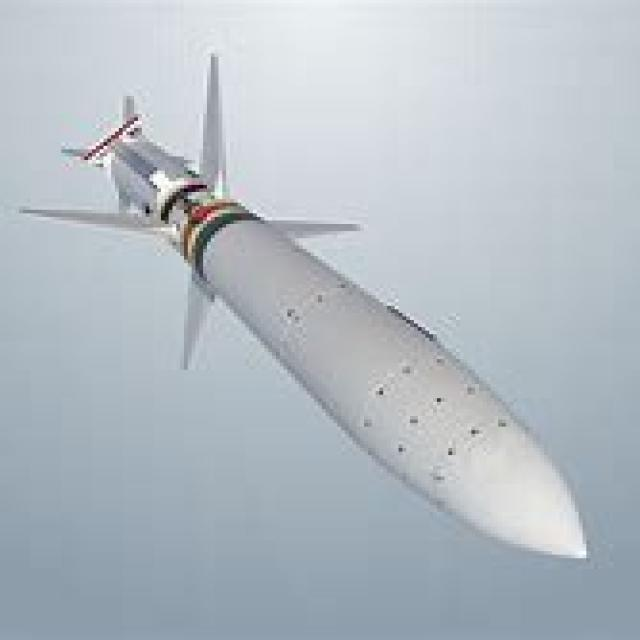missile: (22, 57, 590, 558)
